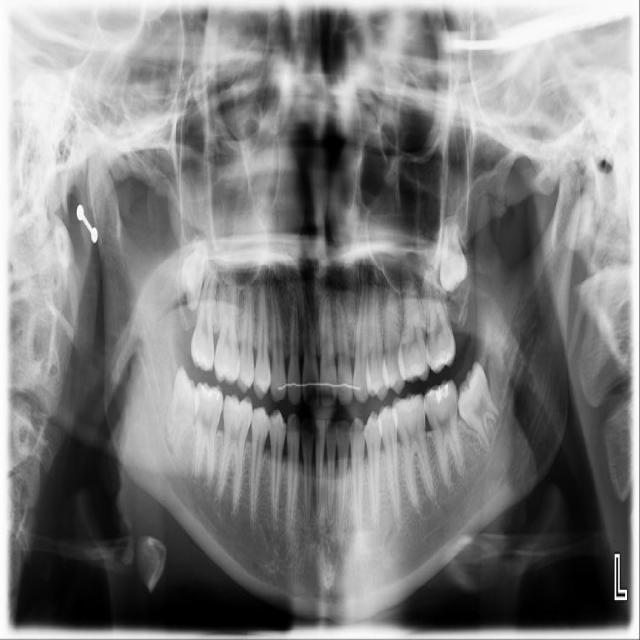Filling: (436, 384, 450, 403)
impacted tooth: (164, 364, 197, 455), (179, 235, 209, 311), (440, 214, 469, 291)
